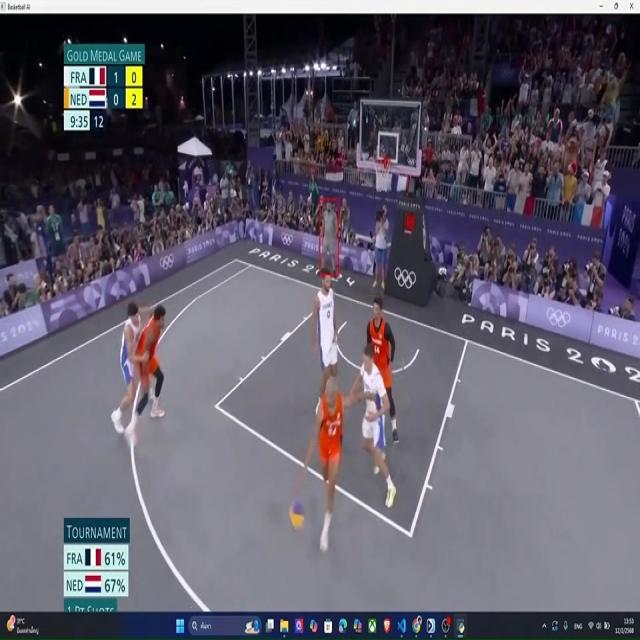basketball: (290, 499, 303, 533)
hoop: (376, 153, 389, 196)
